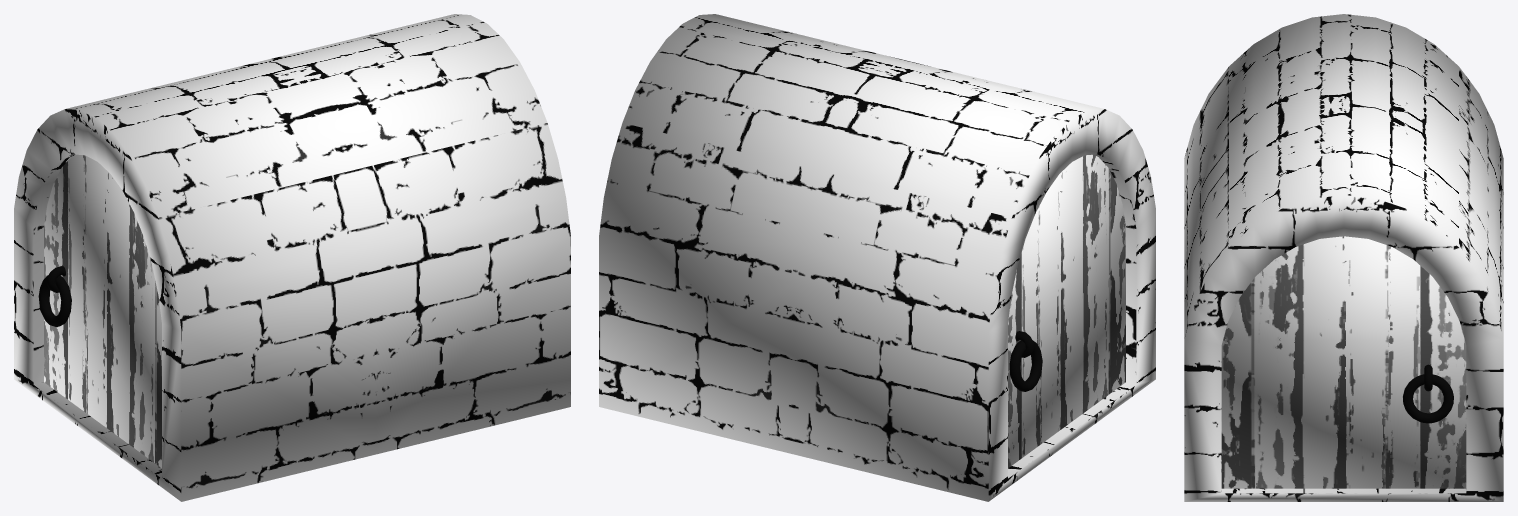
File: BurgDoor.fbx
The picture shows the model from 3 angles, left to right: view 1: azimuth 30°, elevation 25°; view 2: azimuth 150°, elevation 25°; view 3: azimuth 270°, elevation 25°; orthographic projection. The views are drawn at different scales.
Parts seen in each view (by area): view 1: Cylinder, Cylinder.002, Torus.003; view 2: Cylinder, Cylinder.002, Torus.003; view 3: Cylinder, Cylinder.001, Torus.
Boxes of the visible parts, <box> form: Cylinder: <box>14,14,570,501</box>; Cylinder.002: <box>44,154,161,468</box>; Torus.003: <box>38,275,71,327</box>; Cylinder: <box>599,14,1155,501</box>; Cylinder.002: <box>1008,154,1125,468</box>; Torus.003: <box>1009,340,1042,391</box>; Cylinder: <box>1184,14,1503,501</box>; Cylinder.001: <box>1221,236,1466,488</box>; Torus: <box>1403,374,1453,423</box>.
Bounding box in the file's own units: 2.23 × 1.71 × 1.62.
